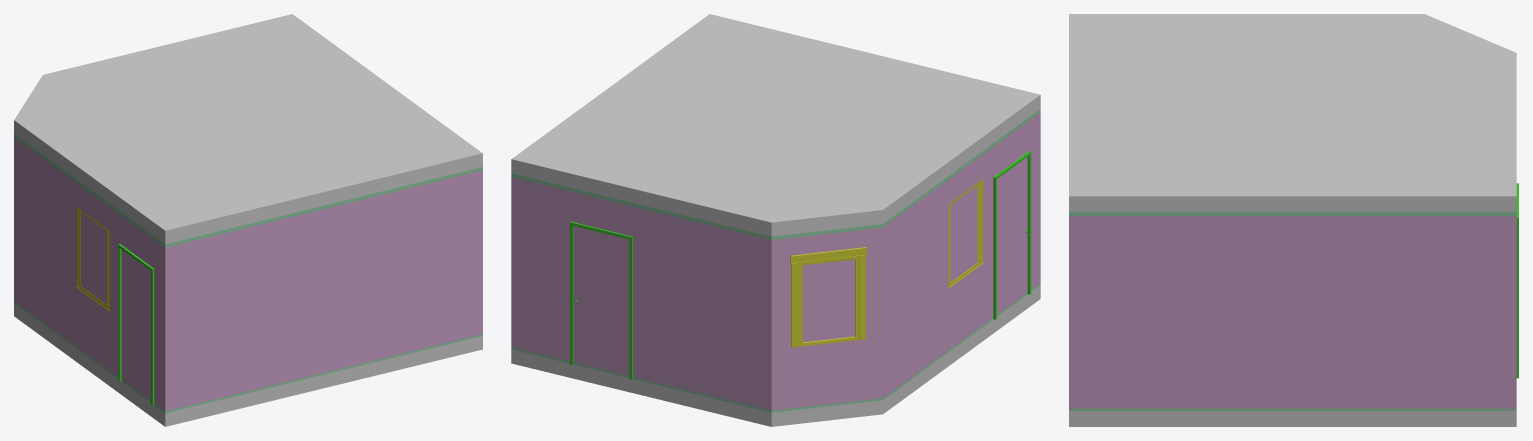
The model's file is FloorPlan6_physics.fbx.
3 renders of one model, left to right at view 1: azimuth 30°, elevation 25°; view 2: azimuth 150°, elevation 25°; view 3: azimuth 270°, elevation 25°, orthographic. The views are drawn at different scales.
Parts seen in each view (by area): view 1: StandardWallSize, Ceiling, Floor, WindowGlass_1, StandardDoorFrame1 (2), StandardWindow1 (2), WindowTreatment1 (2); view 2: StandardWallSize, Ceiling, Floor, WindowGlass_2, WindowGlass_1, WindowTreatment1, StandardDoorFrame1 (2), StandardDoorFrame1, StandardWindow1, StandardWindow1 (2); view 3: StandardWallSize, Ceiling, Floor, StandardDoorFrame1.
Boxes of the visible parts, box(x1,y1,x2,y2) form: StandardWallSize: box(14, 134, 482, 413); Ceiling: box(14, 14, 482, 244); Floor: box(14, 303, 482, 426); WindowGlass_1: box(81, 212, 106, 304); StandardDoorFrame1 (2): box(118, 244, 154, 405); StandardWindow1 (2): box(79, 208, 108, 309); WindowTreatment1 (2): box(76, 207, 110, 311); StandardWallSize: box(511, 109, 1040, 412); Ceiling: box(511, 14, 1040, 236); Floor: box(511, 285, 1040, 426); WindowGlass_2: box(802, 259, 854, 342); WindowGlass_1: box(950, 186, 977, 282); WindowTreatment1: box(790, 247, 866, 347); StandardDoorFrame1 (2): box(993, 151, 1031, 319); StandardDoorFrame1: box(570, 221, 632, 379); StandardWindow1: box(799, 255, 858, 346); StandardWindow1 (2): box(948, 182, 979, 287); StandardWallSize: box(1069, 212, 1516, 410); Ceiling: box(1069, 14, 1516, 212); Floor: box(1069, 411, 1516, 426); StandardDoorFrame1: box(1516, 183, 1518, 378).
Bounding box in the file's own units: 494 × 290 × 512.
